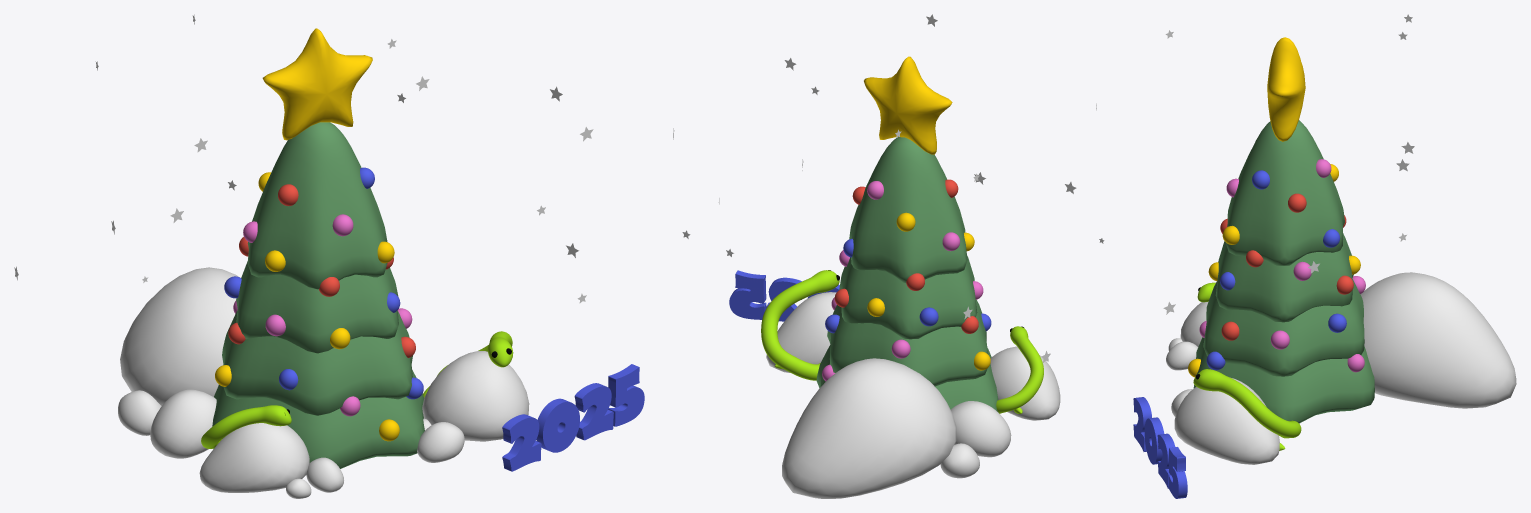
The picture shows the model from 3 angles, left to right: view 1: azimuth 30°, elevation 25°; view 2: azimuth 150°, elevation 25°; view 3: azimuth 270°, elevation 25°; orthographic projection. The views are drawn at different scales.
Parts seen in each view (by area): view 1: Sphere.004, Cylinder.004, Cylinder.001, Cylinder.003, Sphere.001, Cylinder.002, Sphere.018, Text, Zvezda, Zmeya.001, Snezinki, Zmeya; view 2: Sphere.004, Cylinder.004, Cylinder.003, Cylinder.001, Zvezda, Sphere.018, Zmeya, Sphere.001, Text, Cylinder.002, Zmeya.001, Snezinki; view 3: Sphere.004, Cylinder.004, Cylinder.001, Cylinder.003, Cylinder.002, Sphere.001, Zvezda, Text, Zmeya, Sphere.018, Snezinki.
Boxes of the visible parts, box(x1,y1,x2,y2) form: Sphere.004: box(118, 267, 238, 458); Cylinder.004: box(247, 122, 387, 289); Cylinder.001: box(222, 311, 412, 415); Cylinder.003: box(236, 261, 398, 353); Sphere.001: box(417, 351, 529, 462); Cylinder.002: box(212, 370, 424, 468); Sphere.018: box(199, 423, 343, 498); Text: box(502, 364, 644, 471); Zvezda: box(262, 28, 372, 140); Zmeya.001: box(201, 405, 291, 448); Snezinki: box(14, 14, 593, 303); Zmeya: box(423, 331, 513, 397); Sphere.004: box(782, 358, 1011, 498); Cylinder.004: box(849, 137, 967, 282); Cylinder.003: box(839, 255, 977, 339); Cylinder.001: box(827, 300, 988, 386); Zvezda: box(864, 56, 952, 154); Sphere.018: box(990, 346, 1060, 420); Zmeya: box(761, 270, 839, 380); Sphere.001: box(766, 292, 836, 372); Text: box(729, 270, 839, 321); Cylinder.002: box(816, 345, 998, 412); Zmeya.001: box(996, 326, 1043, 413); Snezinki: box(673, 14, 1104, 363); Sphere.004: box(1360, 272, 1516, 408); Cylinder.004: box(1225, 120, 1344, 265); Cylinder.001: box(1203, 278, 1364, 376); Cylinder.003: box(1215, 233, 1353, 322); Cylinder.002: box(1193, 337, 1374, 423); Sphere.001: box(1171, 377, 1279, 464); Zvezda: box(1267, 37, 1305, 141); Text: box(1133, 397, 1187, 498); Zmeya: box(1193, 369, 1301, 450); Sphere.018: box(1166, 301, 1208, 370); Snezinki: box(1163, 14, 1414, 314).
Bounding box in the file's own units: 2.61 × 2.1 × 2.
